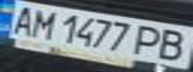1: (54, 11, 81, 45)
4: (72, 15, 96, 47)
7: (109, 19, 136, 54), (90, 17, 115, 51)
A: (3, 2, 42, 35)
B: (151, 27, 193, 62)
M: (24, 7, 60, 39)
P: (130, 23, 169, 57)
